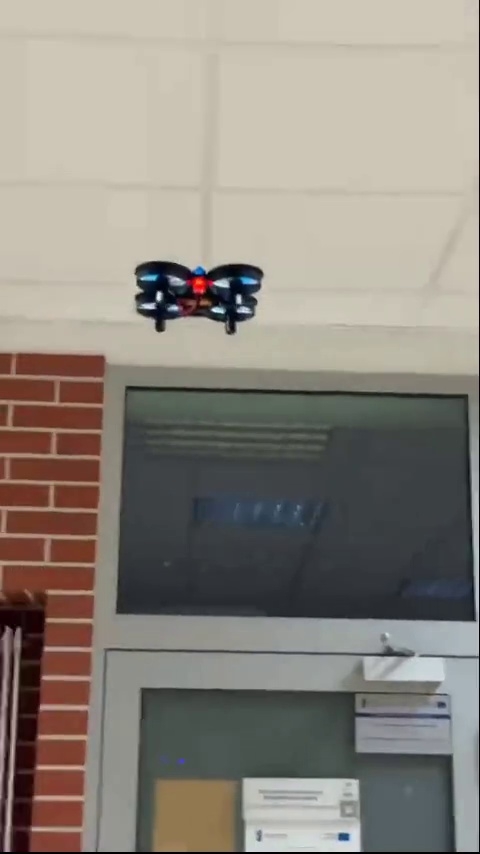drone: (131, 261, 270, 335)
